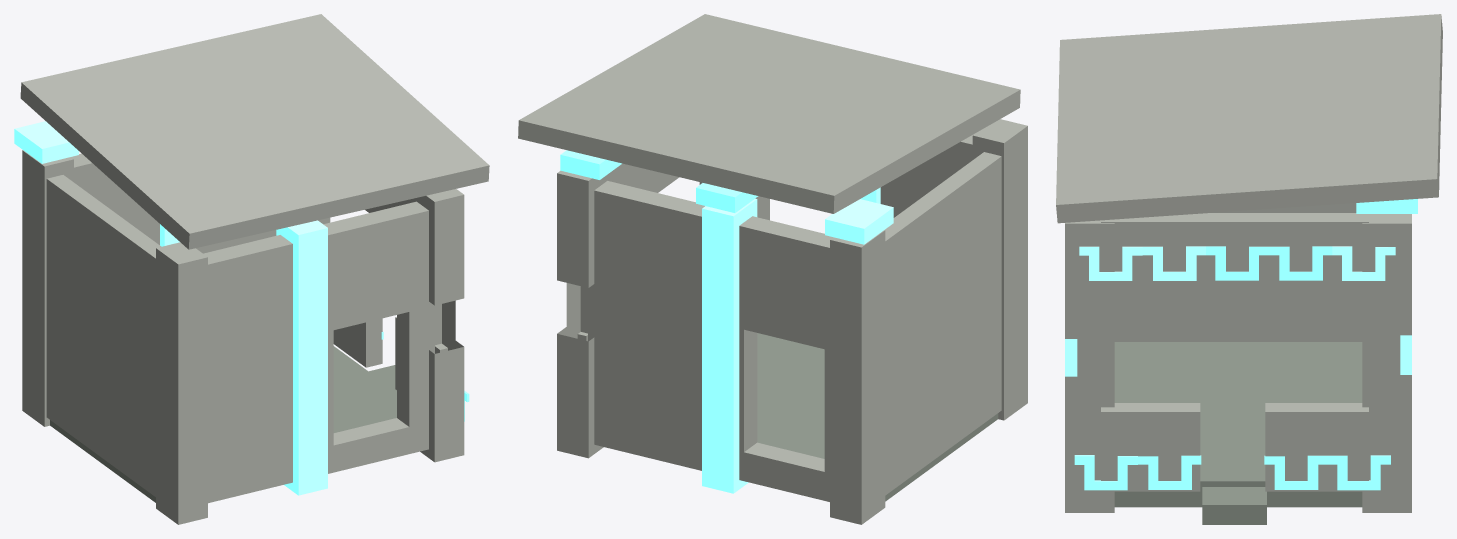
The model's file is space house 7.fbx.
The picture shows the model from 3 angles, left to right: view 1: azimuth 30°, elevation 25°; view 2: azimuth 150°, elevation 25°; view 3: azimuth 270°, elevation 25°; orthographic projection. The views are drawn at different scales.
Visible parts, largest first — view 1: Cube.137, Cube.053, Cube.054, Cube.044, Cube.043, Cube.042, Cube.045, Cube.048, Cube.055, Cube.056, Cube.052; view 2: Cube.137, Cube.055, Cube.054, Cube.045, Cube.046, Cube.047, Cube.044, Cube.048, Cube.053, Cube.052, Cube.057, Cube.050 (+1 smaller); view 3: Cube.137, Cube.048, Cube.057, Cube.056, Cube.047, Cube.042, Cube.054, Cube.059, Cube.090, Cube.058, Cube.051, Cube.055 (+2 smaller).
Part boxes in pixels (x1,y1,x2,y2): Cube.137: (20,14,489,249); Cube.053: (203,201,434,503); Cube.054: (46,175,161,496); Cube.044: (156,242,207,524); Cube.043: (276,220,327,495); Cube.042: (412,189,464,462); Cube.045: (22,150,73,426); Cube.048: (50,346,396,502); Cube.055: (71,153,276,253); Cube.056: (333,317,447,389); Cube.052: (14,121,78,163); Cube.137: (518,14,1020,213); Cube.055: (588,181,832,501); Cube.054: (885,152,1001,495); Cube.045: (830,230,885,524); Cube.046: (702,198,757,493); Cube.047: (557,170,612,458); Cube.044: (972,119,1027,420); Cube.048: (757,333,998,501); Cube.053: (755,133,974,220); Cube.052: (825,199,893,244); Cube.057: (612,163,679,192); Cube.050: (696,183,758,212); Cube.137: (1056,14,1442,223); Cube.048: (1114,342,1362,507); Cube.057: (1101,213,1368,301); Cube.056: (1101,403,1368,491); Cube.047: (1362,214,1411,512); Cube.042: (1065,220,1114,512); Cube.054: (1114,203,1362,341); Cube.059: (1079,246,1395,280); Cube.090: (1074,455,1390,490); Cube.058: (1202,487,1266,524); Cube.051: (1356,199,1417,213); Cube.055: (1392,335,1400,390).
Size of the model in its own units: 1250 by 1194 by 1194.
